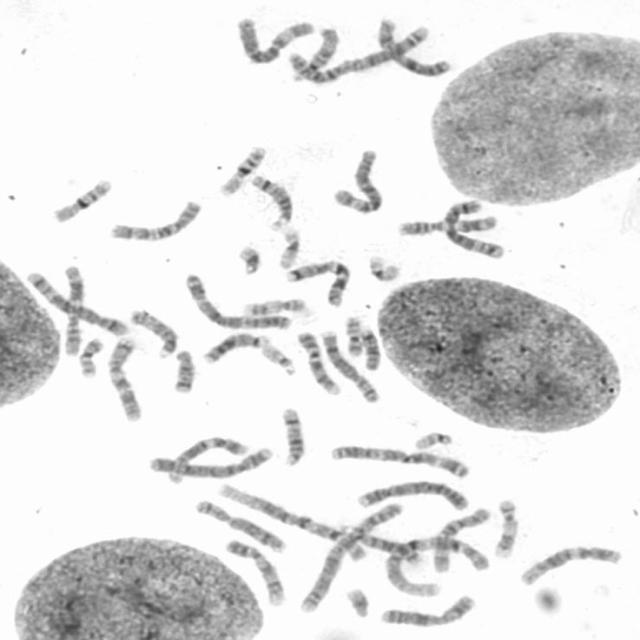A1: (214, 480, 374, 563), (379, 529, 492, 597)
A2: (294, 498, 406, 616), (284, 20, 436, 85)
A3: (180, 268, 296, 331), (325, 439, 473, 480)
B4: (146, 440, 276, 480), (352, 476, 472, 510)
B5: (22, 266, 131, 337), (438, 197, 506, 260)
C10: (104, 195, 205, 243), (428, 502, 493, 574)
C11: (393, 210, 500, 238), (59, 260, 87, 356)
C12: (515, 540, 624, 587), (160, 432, 252, 484)
C6: (233, 12, 316, 65), (328, 145, 386, 215)
C7: (282, 254, 354, 309), (102, 332, 145, 422)
C8: (191, 495, 289, 553), (315, 324, 383, 406)
C9: (221, 534, 288, 607), (293, 326, 344, 396)
D13: (340, 521, 422, 569), (198, 328, 273, 365)
D14: (247, 170, 296, 231), (276, 402, 308, 468)
D15: (288, 23, 342, 83), (125, 305, 181, 359)
E16: (49, 174, 114, 224), (215, 140, 270, 197)
E17: (489, 494, 521, 560), (237, 293, 309, 317)
E18: (168, 345, 198, 395), (355, 324, 383, 372)
F19: (274, 222, 303, 270), (364, 251, 404, 283)
F20: (73, 332, 106, 378), (341, 312, 366, 358)
G21: (233, 240, 265, 276), (341, 582, 372, 619)
G22: (258, 339, 299, 376), (410, 426, 455, 451)
X: (374, 13, 454, 78), (375, 592, 479, 628)
